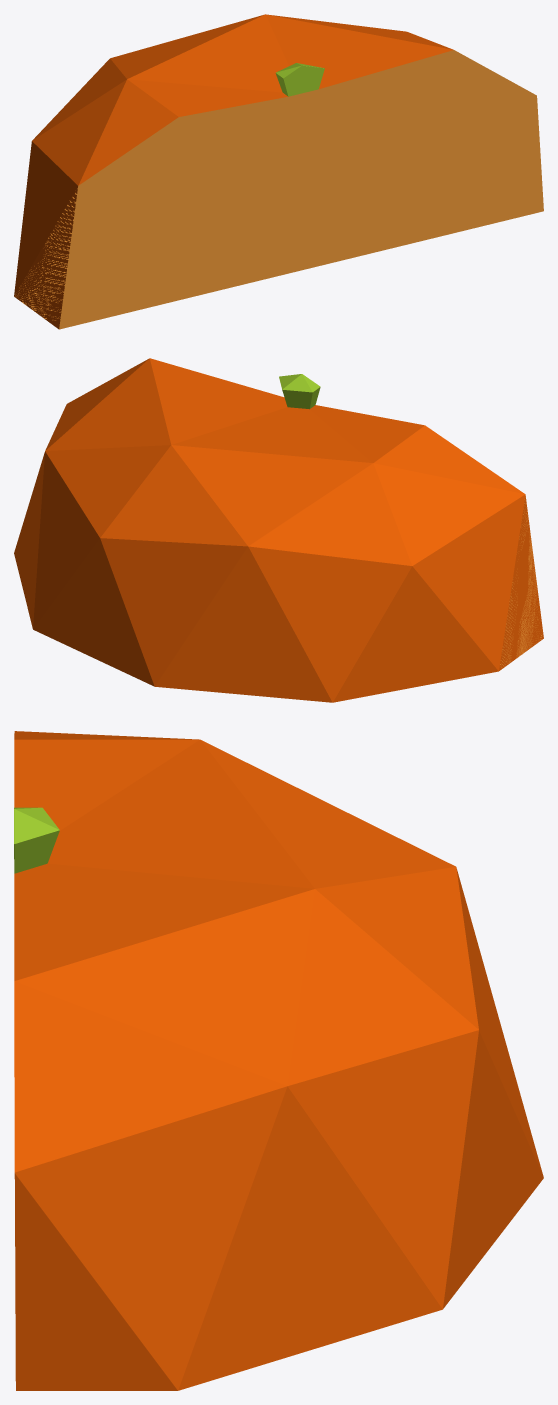
The model's file is OrangeQu1.fbx.
The picture shows the model from 3 angles, top to bottom: view 1: azimuth 30°, elevation 25°; view 2: azimuth 150°, elevation 25°; view 3: azimuth 270°, elevation 25°; orthographic projection. The views are drawn at different scales.
Parts seen in each view (by area): view 1: OrangeQu1; view 2: OrangeQu1; view 3: OrangeQu1.
Boxes of the visible parts, x1,y1,x2,y2 form: OrangeQu1: [14, 14, 543, 329]; OrangeQu1: [14, 358, 543, 702]; OrangeQu1: [14, 731, 543, 1390].
Size of the model in its own units: 194 by 78.55 by 102.
